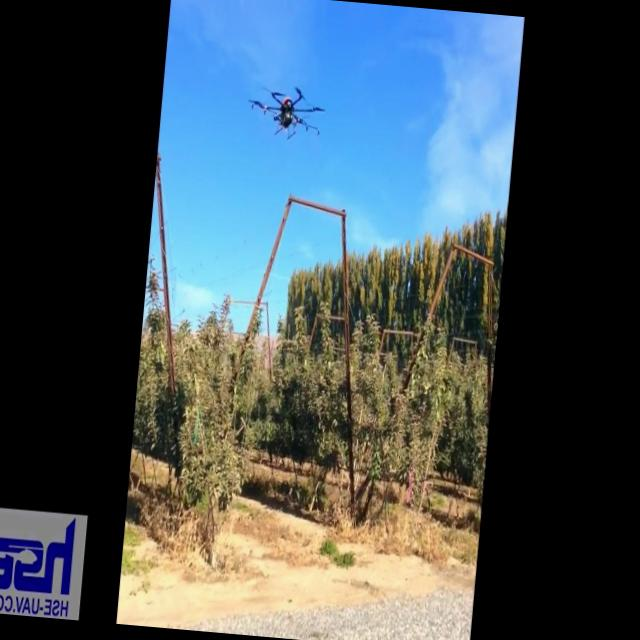drone: (244, 78, 328, 146)
